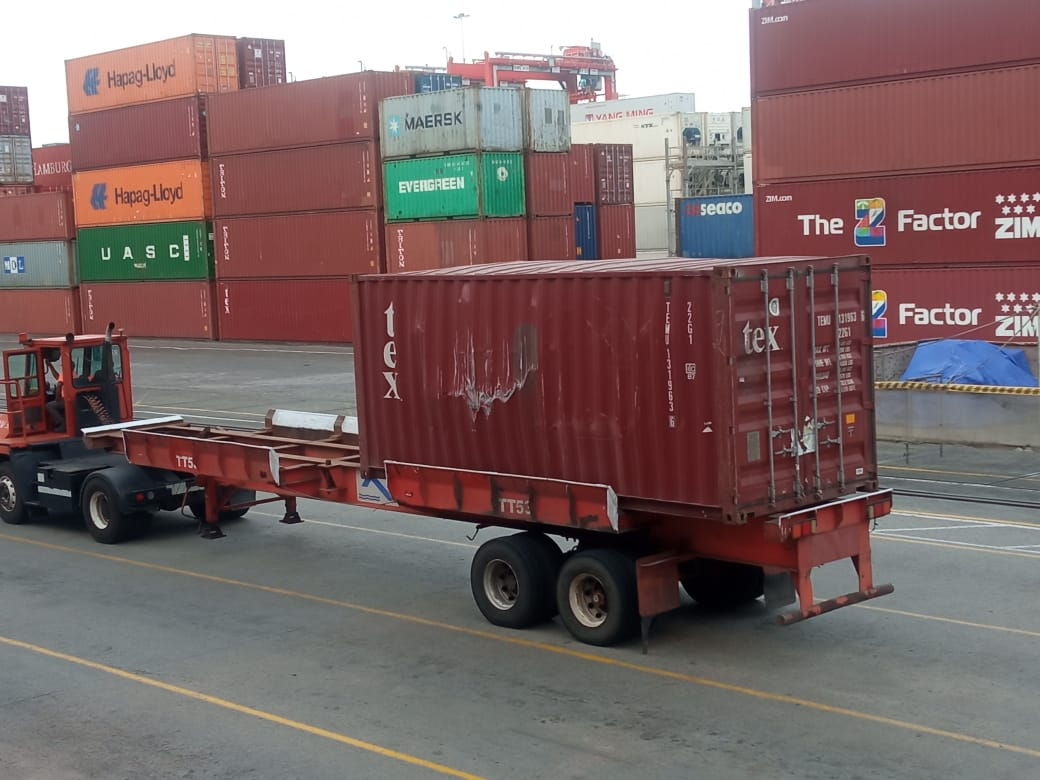moderate: (417, 316, 565, 423)
